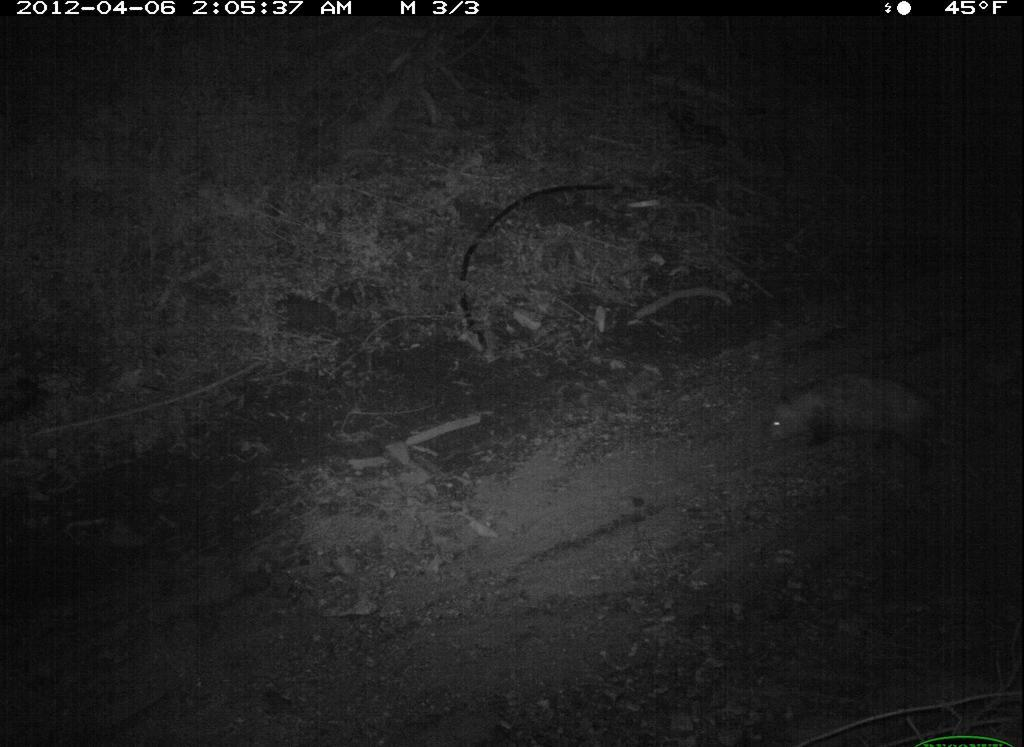opossum: (753, 362, 971, 464)
